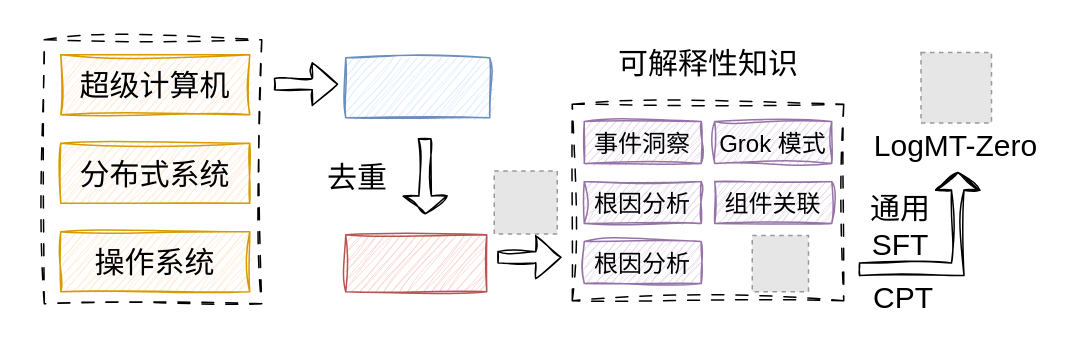
Image size: 1079x344. Some labels were removed from this diagram. Grey dashed boxes stand in for pictures. The box of each missing label's shape, as (x1, y1, x2, y2) in pixels:
日志事件: (344, 233, 487, 292)
日志数据: (344, 56, 490, 118)
